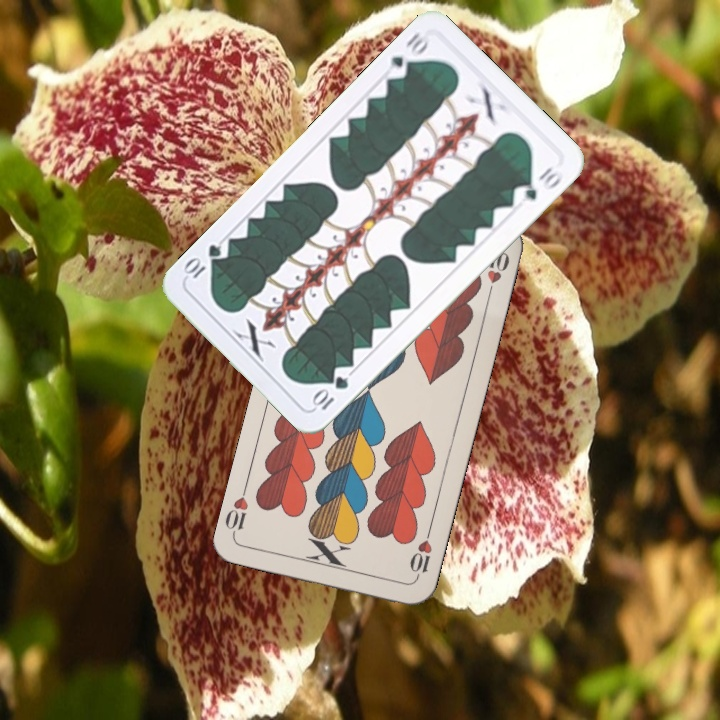G10: (382, 28, 431, 82), (308, 372, 352, 413)
H10: (405, 526, 435, 584)
